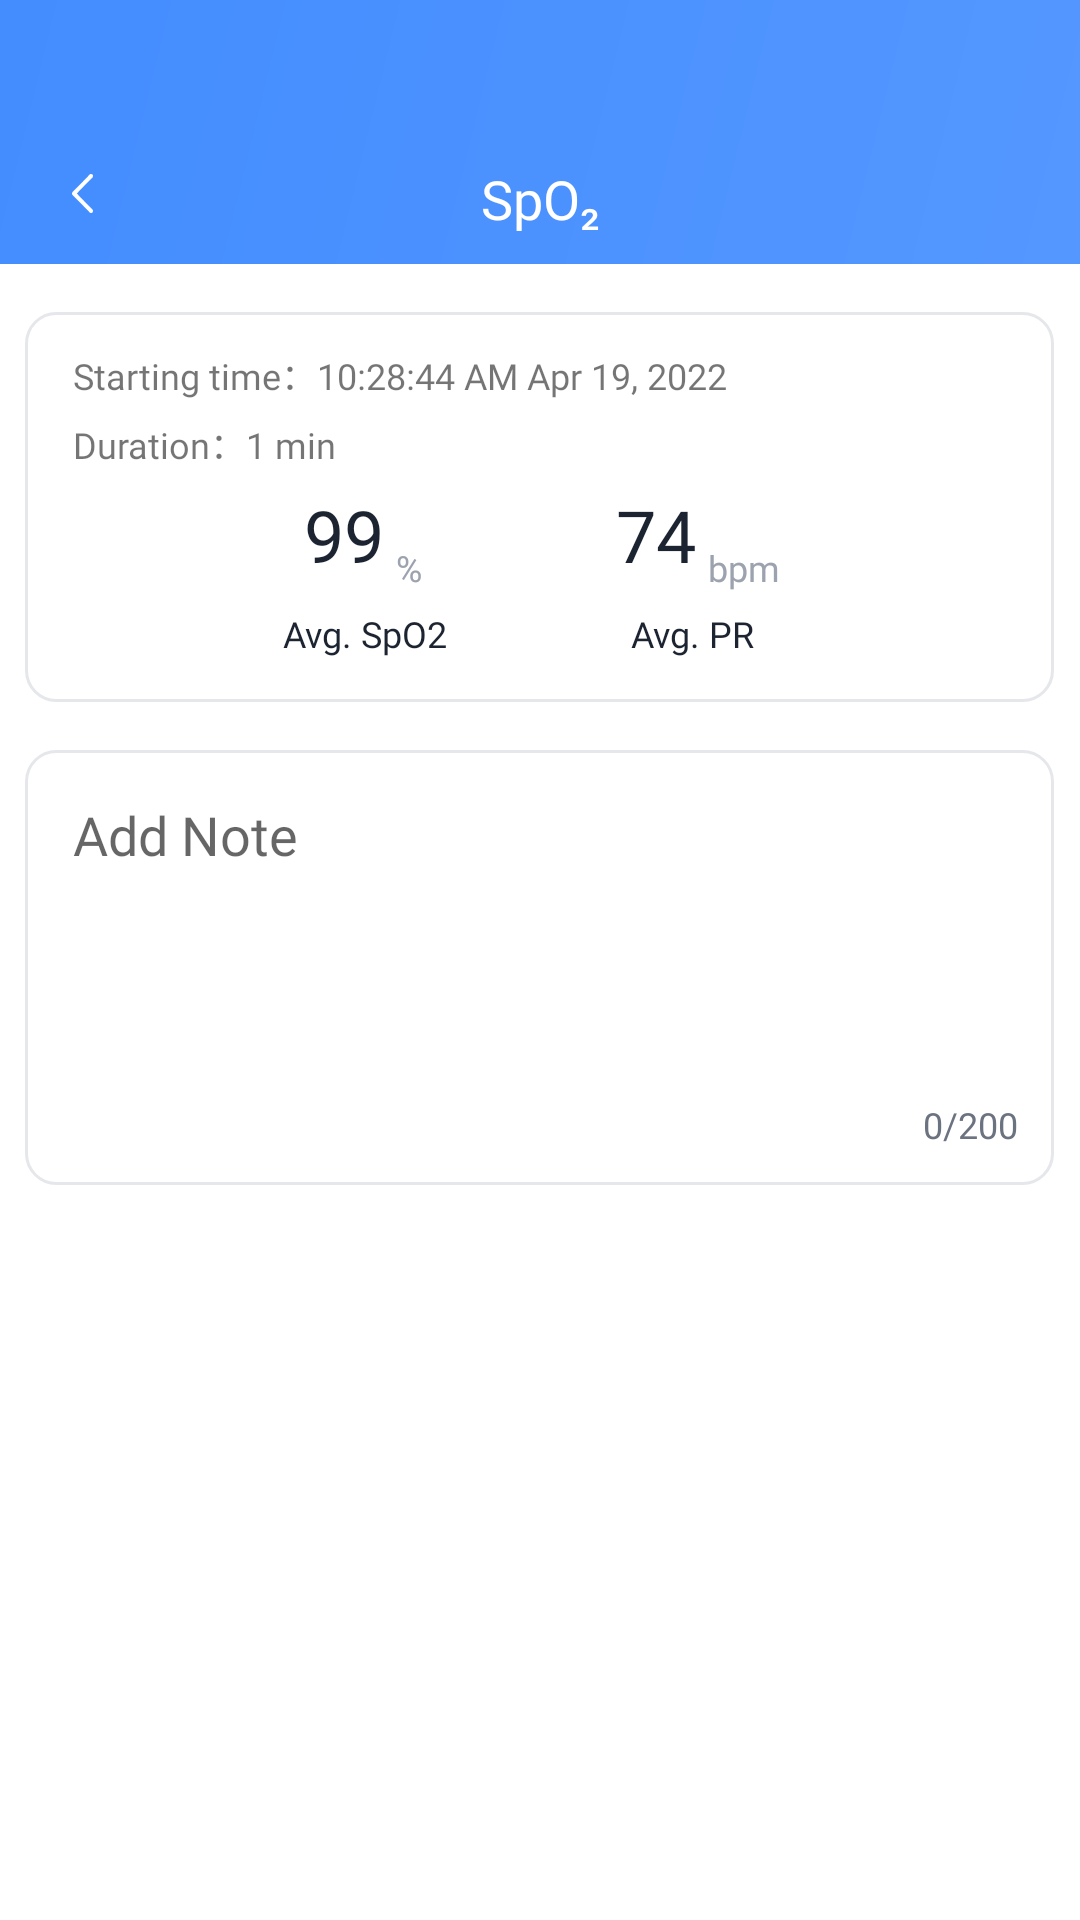

Icons on this 1080px x 1920px Android screen, each with the point to tap as (x,y):
left: (82,193)
